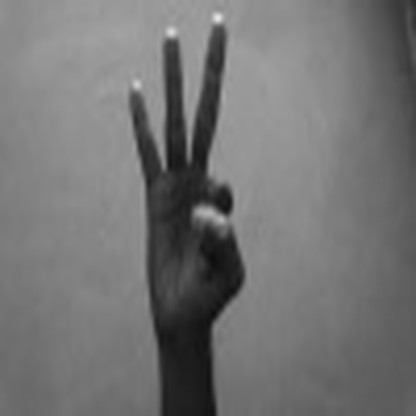f: (105, 11, 255, 337)
